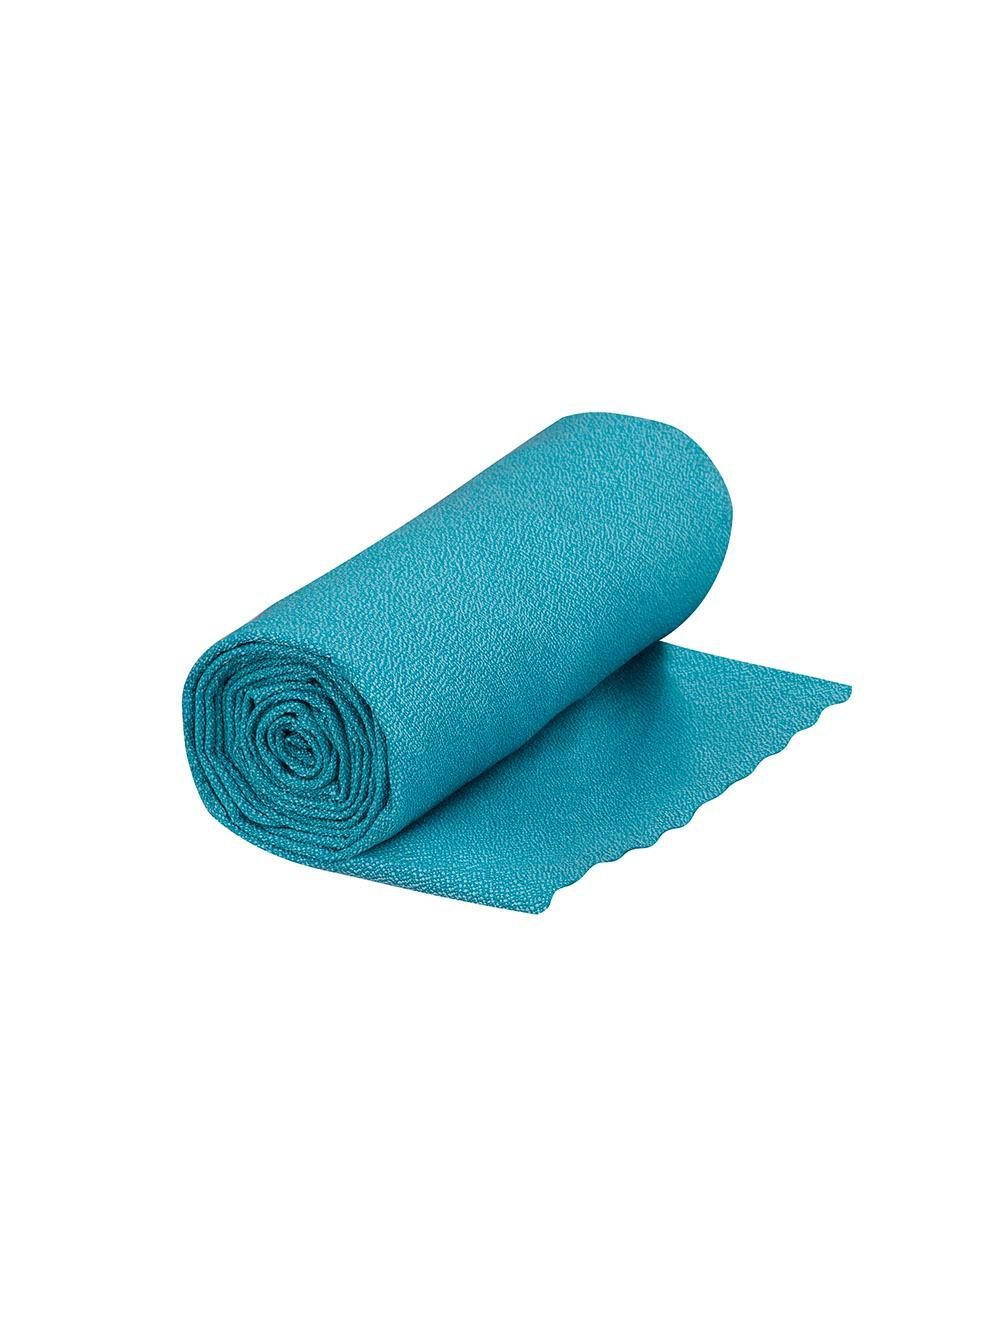towel: (127, 363, 880, 967)
